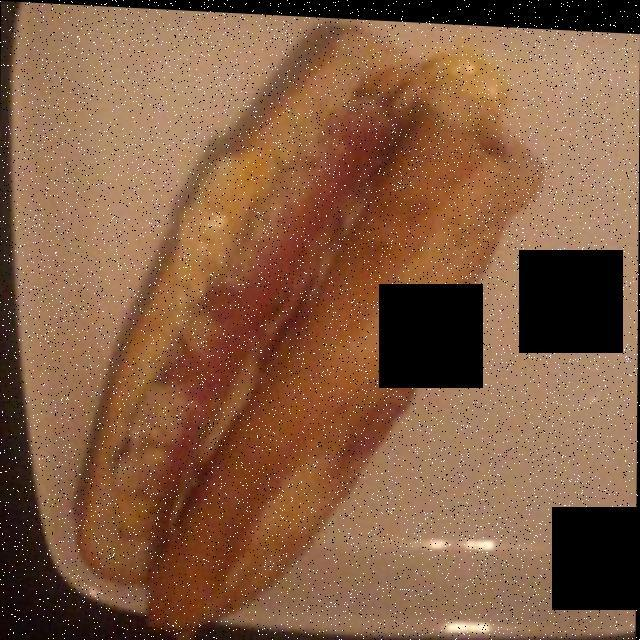bread: (76, 37, 528, 624)
cheese: (99, 46, 501, 548)
